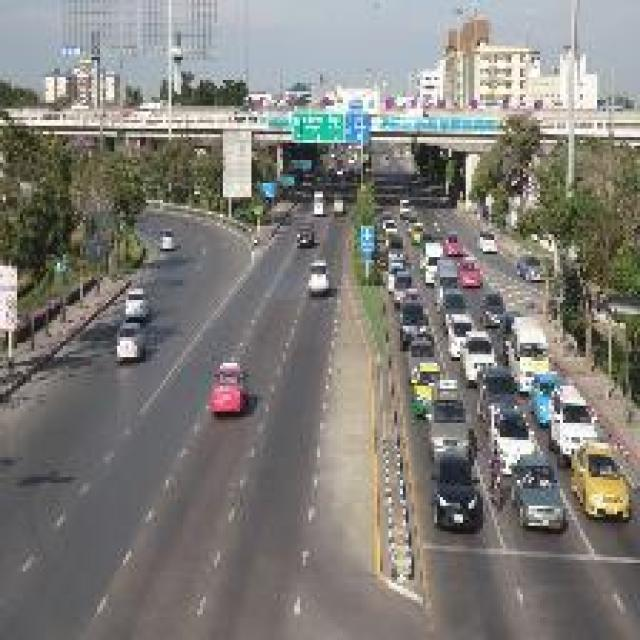other: (559, 438, 633, 528), (201, 356, 248, 415)
